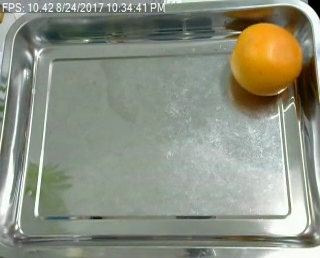Orange: (230, 22, 301, 95)
